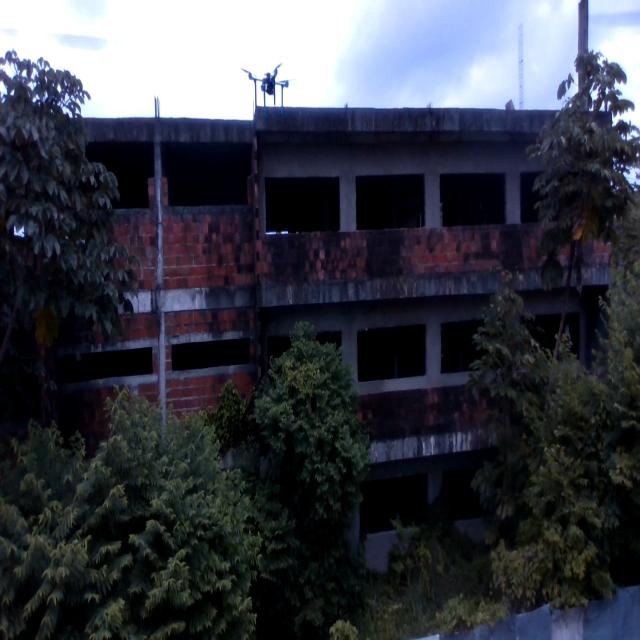-uav-: (238, 50, 296, 134)
